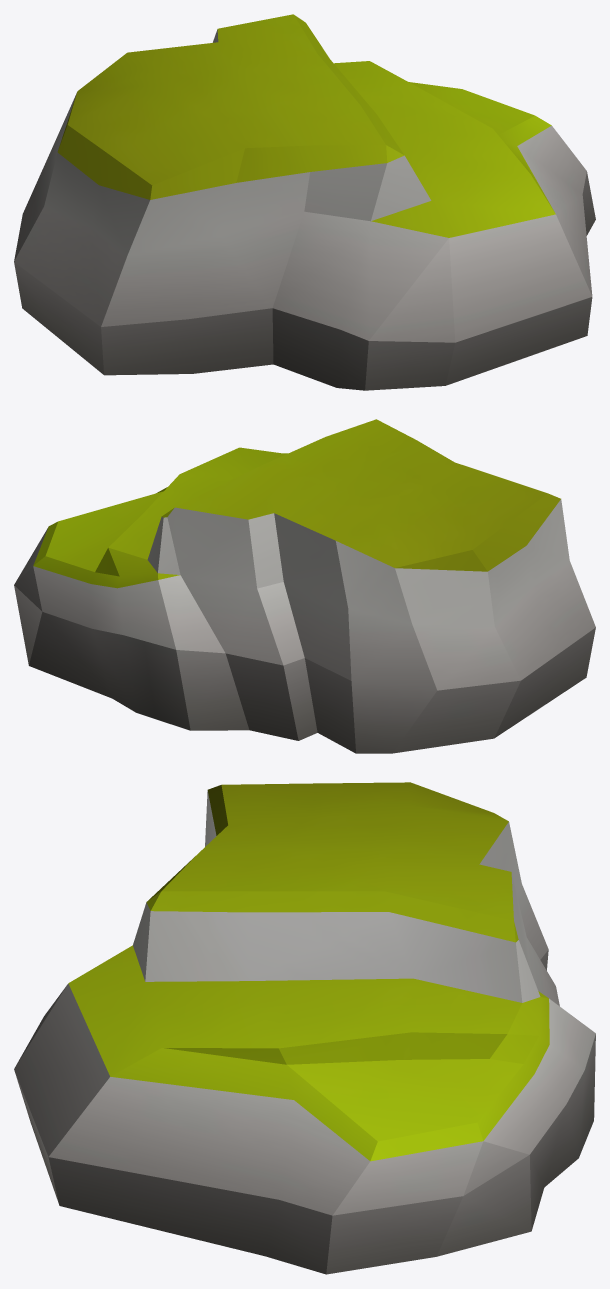
The model's file is Rock_Platform_Medium_GrassVariant.fbx.
3 renders of one model, top to bottom at view 1: azimuth 30°, elevation 25°; view 2: azimuth 150°, elevation 25°; view 3: azimuth 270°, elevation 25°, orthographic. The views are drawn at different scales.
Visible parts, largest first — view 1: Rock_Platform_Medium_GrassVariant; view 2: Rock_Platform_Medium_GrassVariant; view 3: Rock_Platform_Medium_GrassVariant.
Boxes of the visible parts, left/top/right/bottom form: Rock_Platform_Medium_GrassVariant: left=14, top=14, right=595, bottom=390; Rock_Platform_Medium_GrassVariant: left=14, top=419, right=595, bottom=753; Rock_Platform_Medium_GrassVariant: left=14, top=782, right=595, bottom=1274.
Bounding box in the file's own units: 1495 × 1203 × 619.
Materials: 1 (1 with a texture image).
